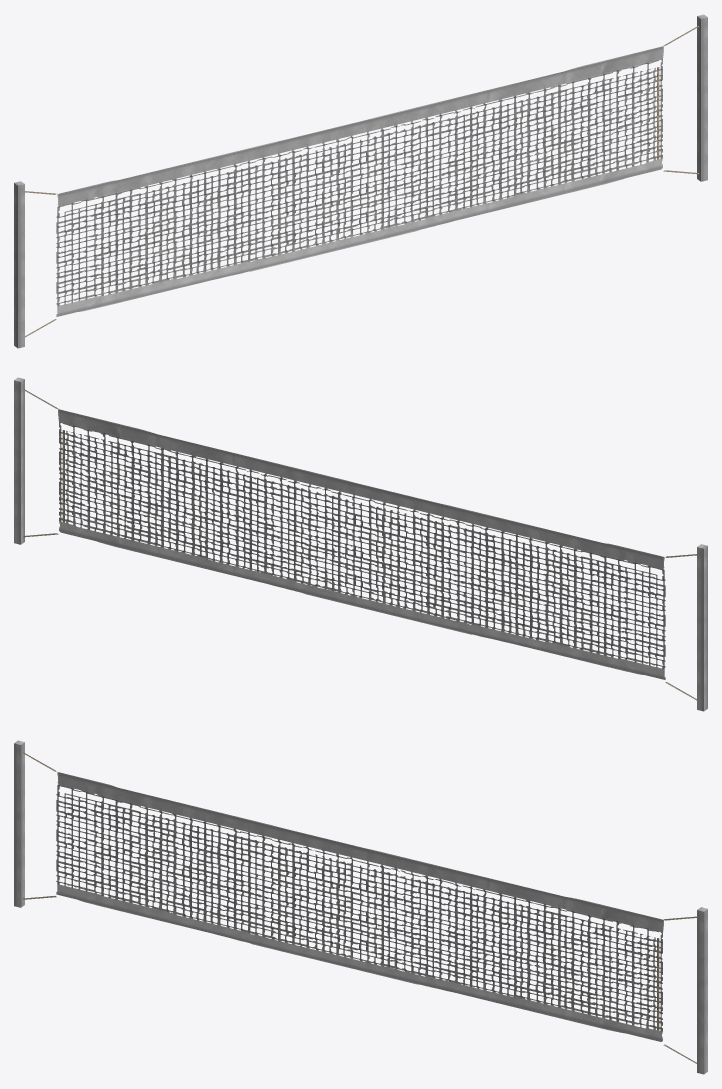
File: TennisNet01.obj
3 views of the same model, one above another, from view 1: azimuth 30°, elevation 25°; view 2: azimuth 150°, elevation 25°; view 3: azimuth 330°, elevation 25° (orthographic).
Visible parts, largest first — view 1: TennisNet01; view 2: TennisNet01; view 3: TennisNet01.
Boxes of the visible parts, <box> form: TennisNet01: <box>14,14,707,348</box>; TennisNet01: <box>14,377,707,711</box>; TennisNet01: <box>14,740,707,1074</box>.
Bounding box in the file's own units: 19.95 × 4.5 × 0.2.
